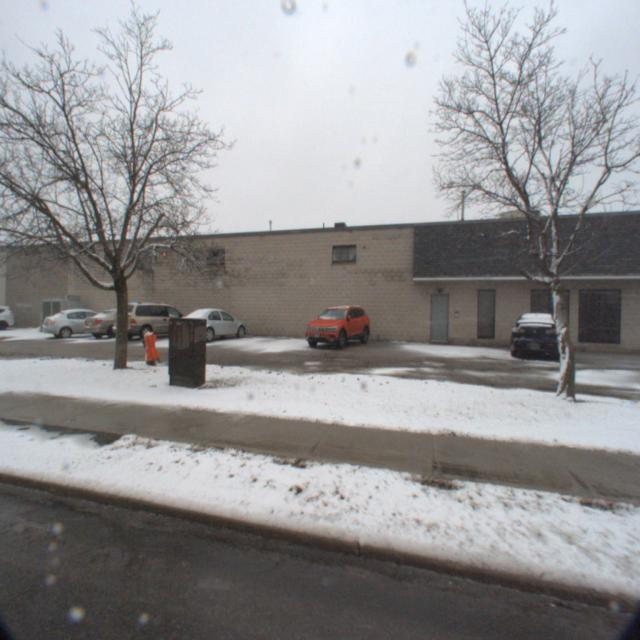Car: (104, 300, 196, 342), (299, 300, 373, 351), (169, 305, 252, 346), (33, 307, 119, 344), (504, 307, 558, 362), (73, 308, 154, 342)
